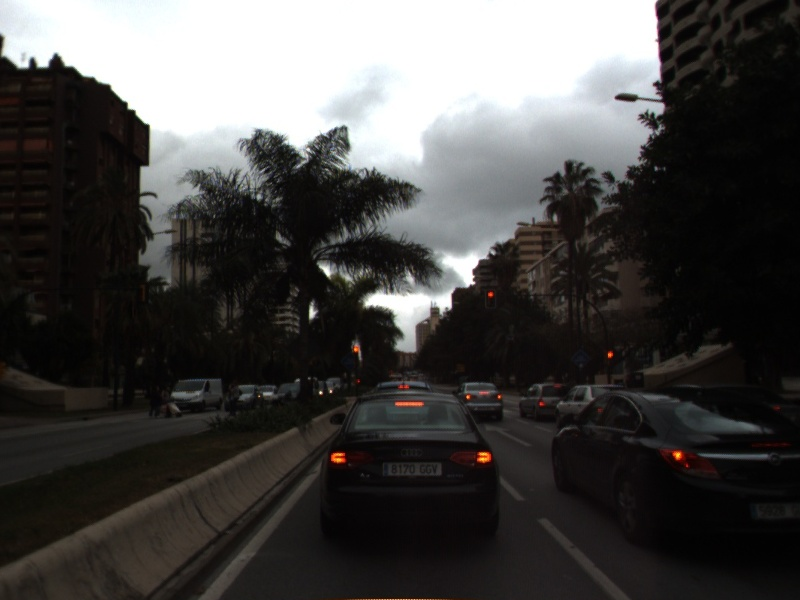STRAIGHT: (482, 420, 535, 448)
